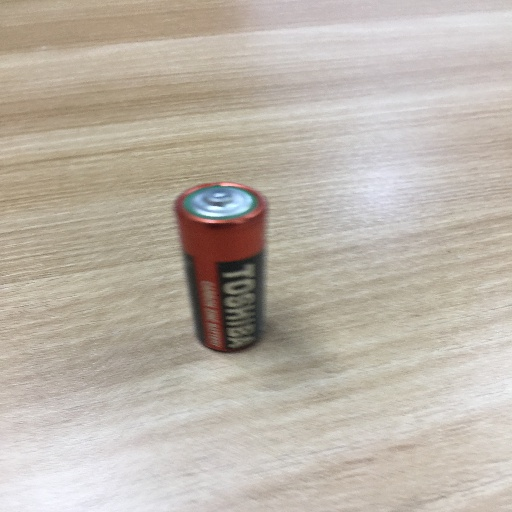Battery_0: (162, 168, 287, 374)
